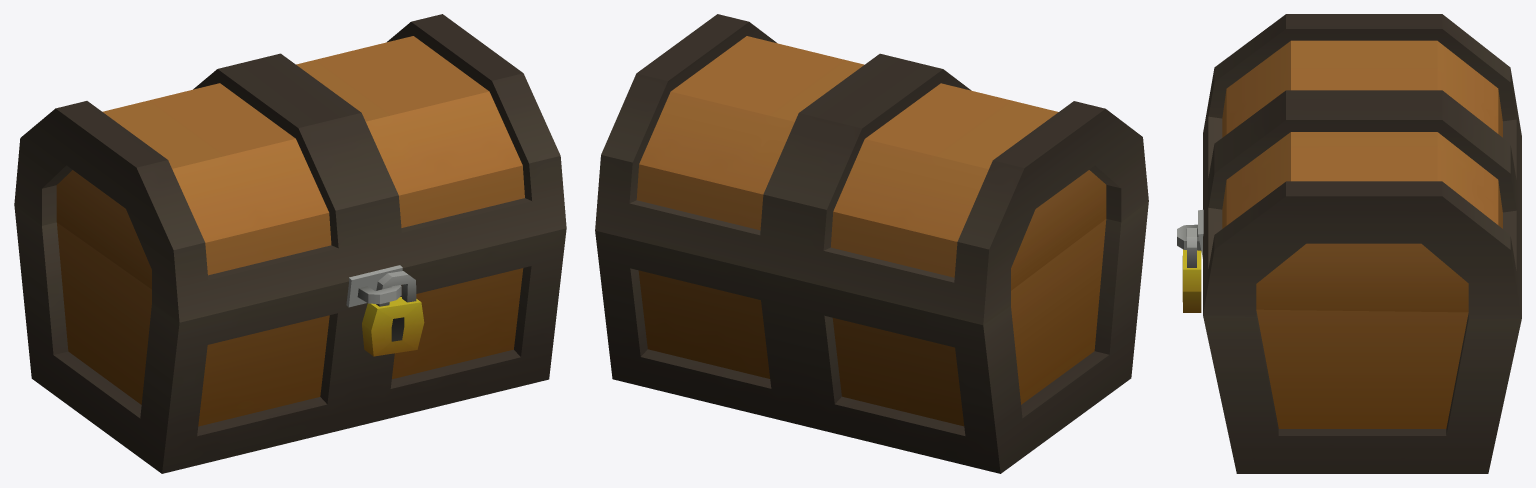
The model's file is Chest_Closed.fbx.
3 renders of one model, left to right at view 1: azimuth 30°, elevation 25°; view 2: azimuth 150°, elevation 25°; view 3: azimuth 270°, elevation 25°, orthographic. The views are drawn at different scales.
Visible parts, largest first — view 1: Chest_Closed; view 2: Chest_Closed; view 3: Chest_Closed.
Part boxes in pixels (box(x1,y1,x2,y2)): Chest_Closed: box(14, 14, 566, 473); Chest_Closed: box(595, 14, 1148, 473); Chest_Closed: box(1177, 14, 1521, 473).
Bounding box in the file's own units: 103 × 81.94 × 72.78.
1 material, 1 textured.
